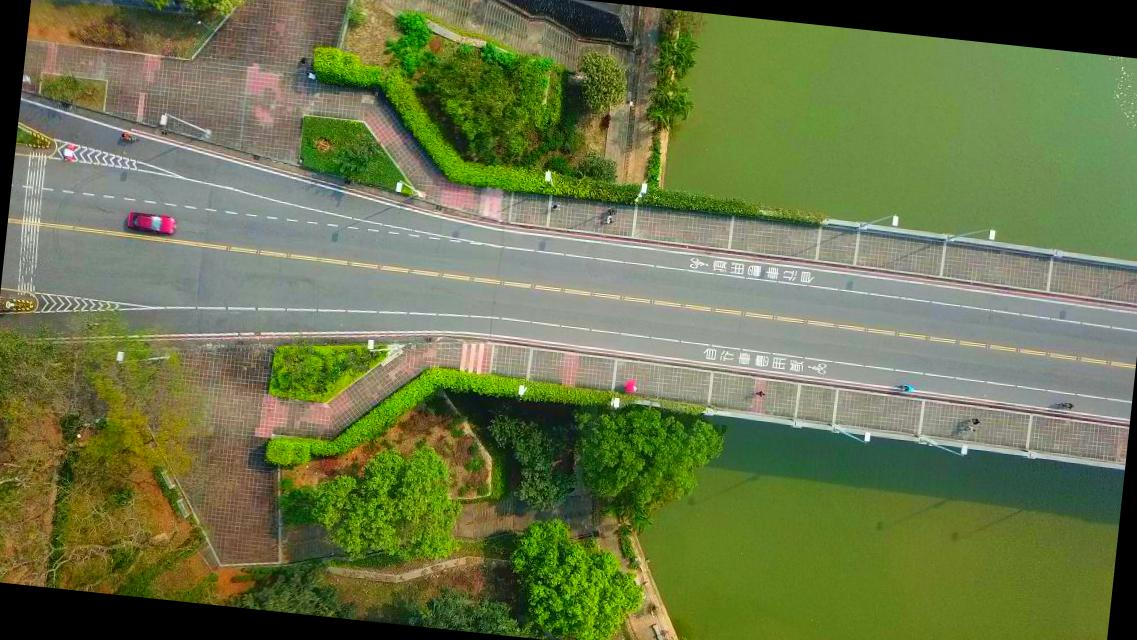vehicle: (126, 210, 177, 236)
